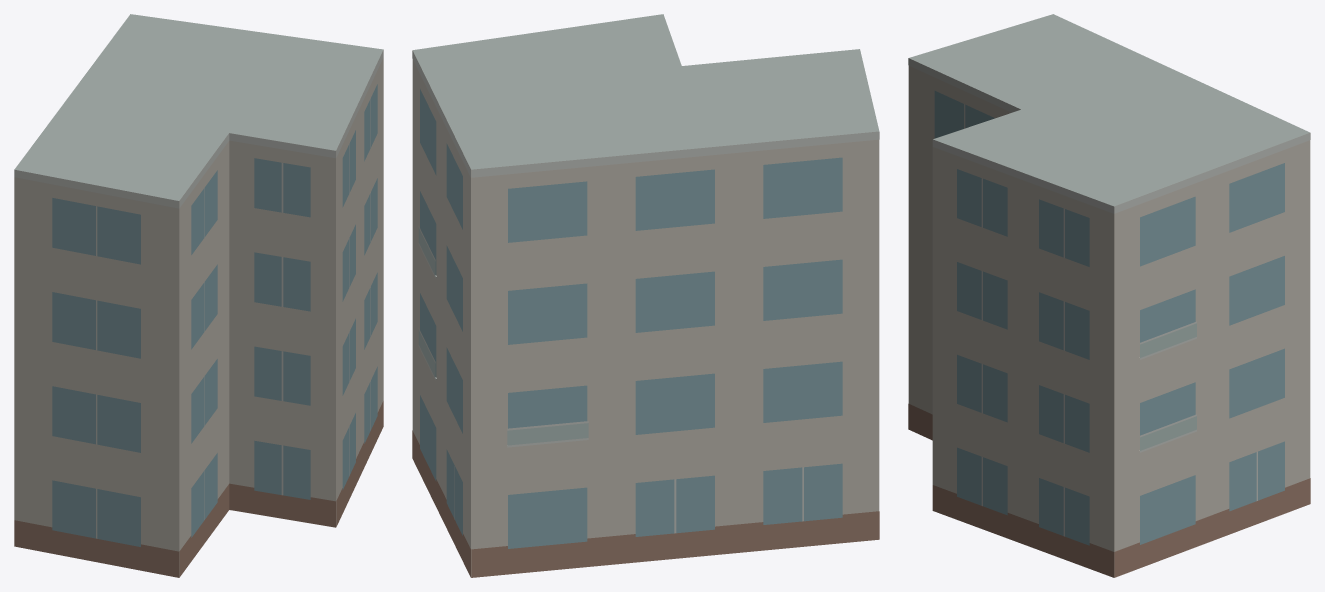
The model's file is survey-upis-33015386.glb.
The picture shows the model from 3 angles, left to right: view 1: azimuth 30°, elevation 25°; view 2: azimuth 150°, elevation 25°; view 3: azimuth 270°, elevation 25°; orthographic projection. The views are drawn at different scales.
Visible parts, largest first — view 1: survey-upis-33015386.tmp; view 2: survey-upis-33015386.tmp; view 3: survey-upis-33015386.tmp.
Boxes of the visible parts, <box> form: survey-upis-33015386.tmp: <box>14,14,383,577</box>; survey-upis-33015386.tmp: <box>412,14,879,577</box>; survey-upis-33015386.tmp: <box>908,14,1310,577</box>.
Bounding box in the file's own units: 13.57 × 12.2 × 11.97.
